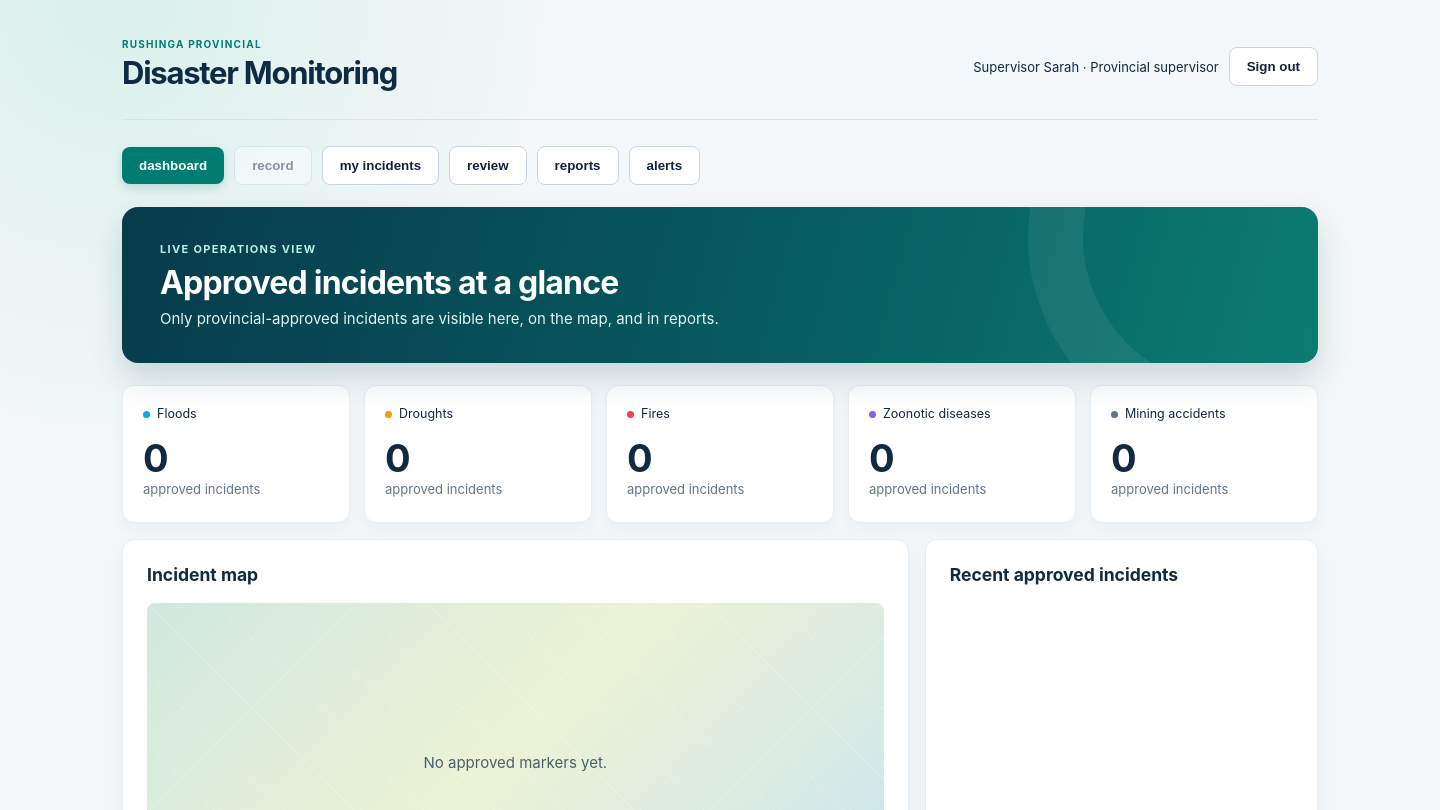
Test case: Supervisor Review, Decision and Dashboard Isolation Workflow › rejects an incident with mandatory reason and transitions incident to REJECTED
Click the button "review". click: (488, 166)
box: [449,146,527,185]
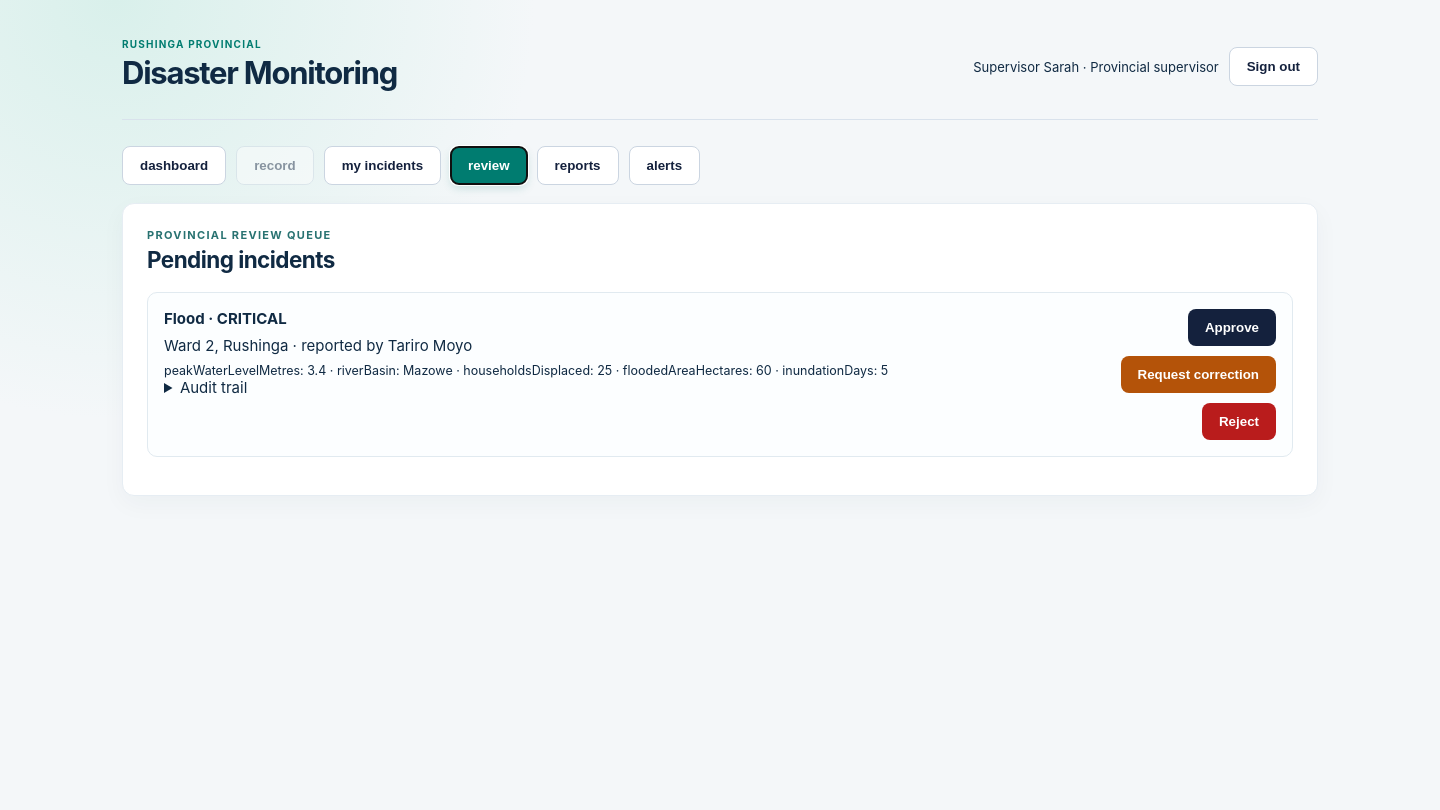
Click Reject
Click the button "Reject". click: (1239, 421)
box: [1202,403,1276,440]
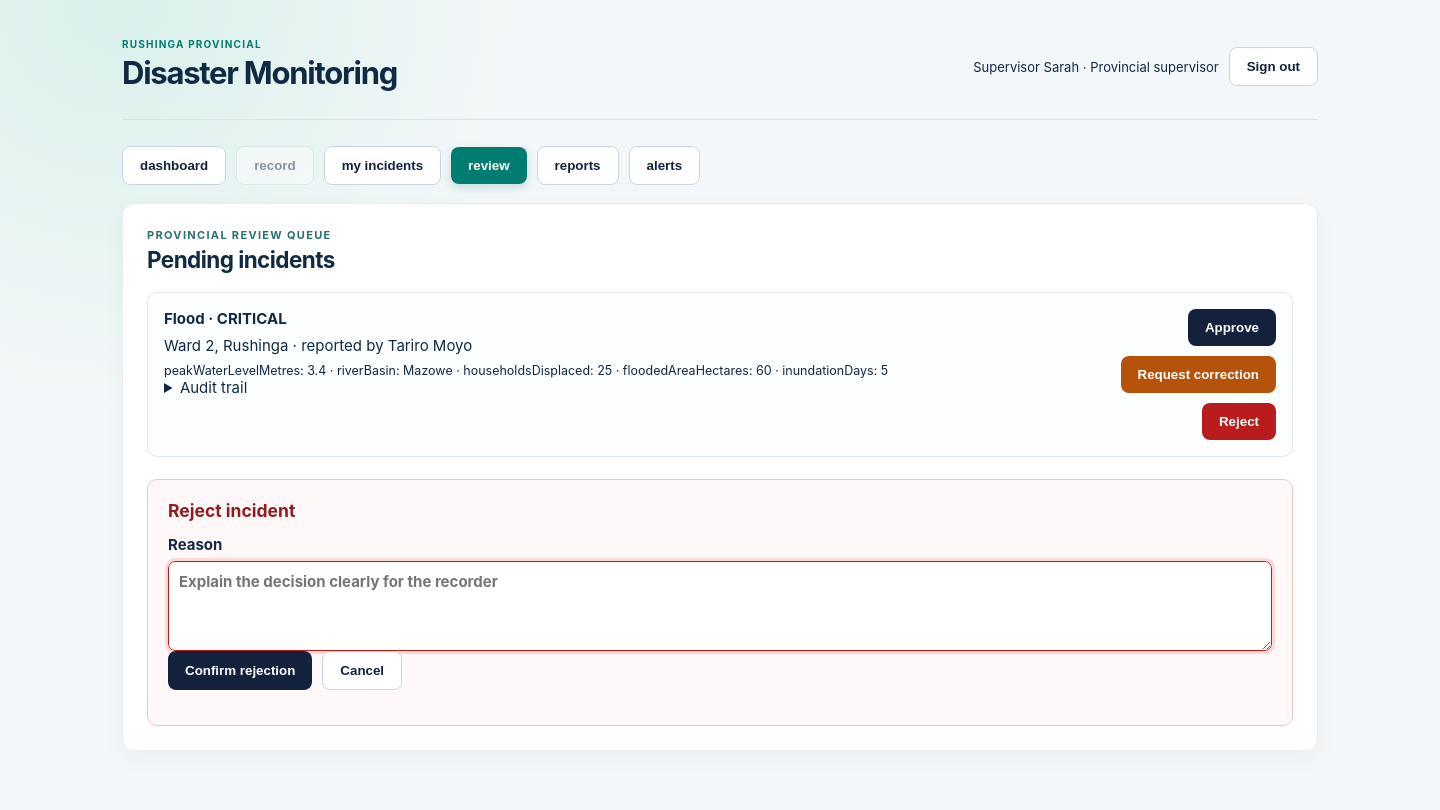
Expected: the heading "Reject incident" is shown, [168,500,295,521]
Type "Duplicate entry of Ward 2 morning alert." into the text box with placeholder "Explain the decision clearly for the recorder". click: (720, 606)
box: [168,561,1272,651]
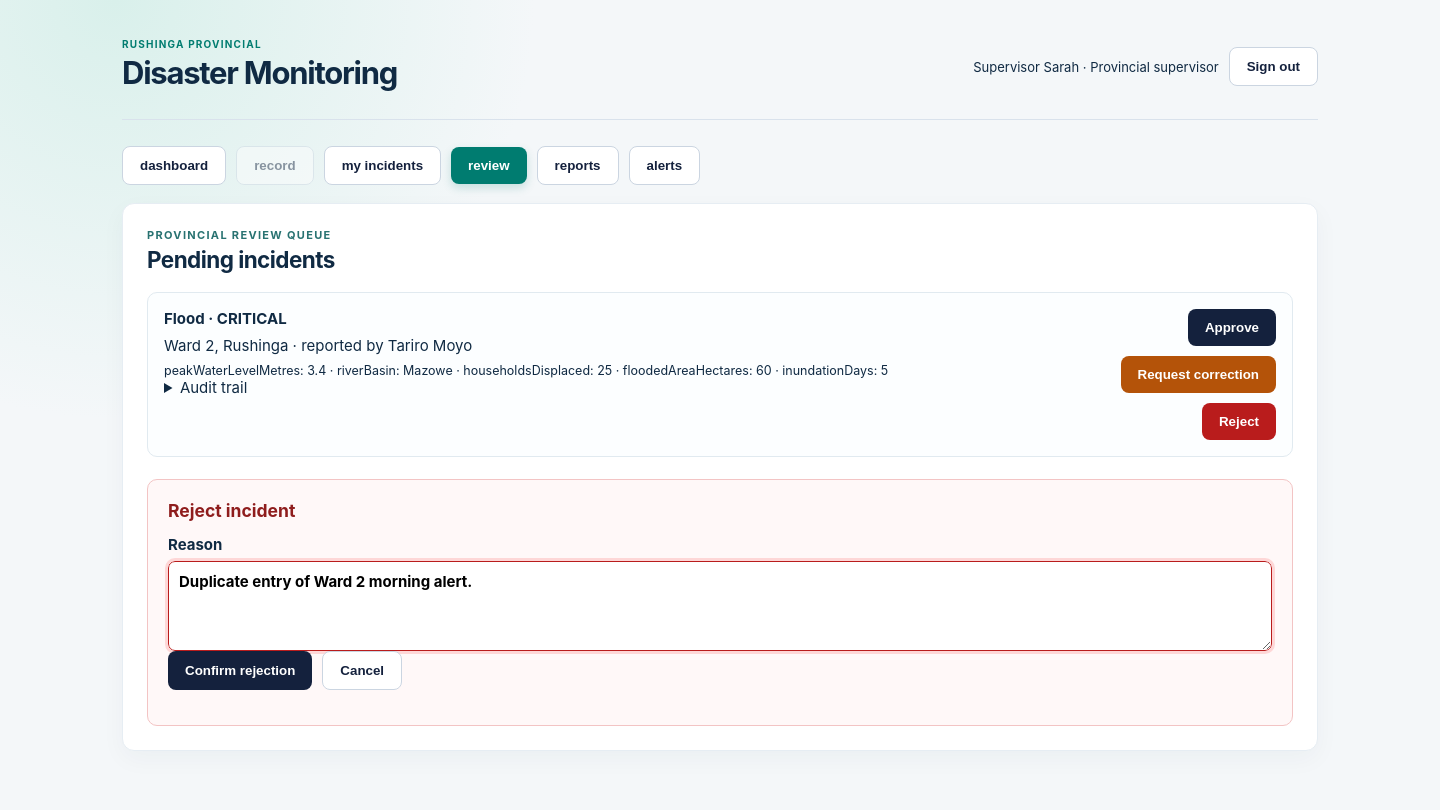
Click the button "Confirm rejection". click: (240, 670)
box: [168,651,312,690]
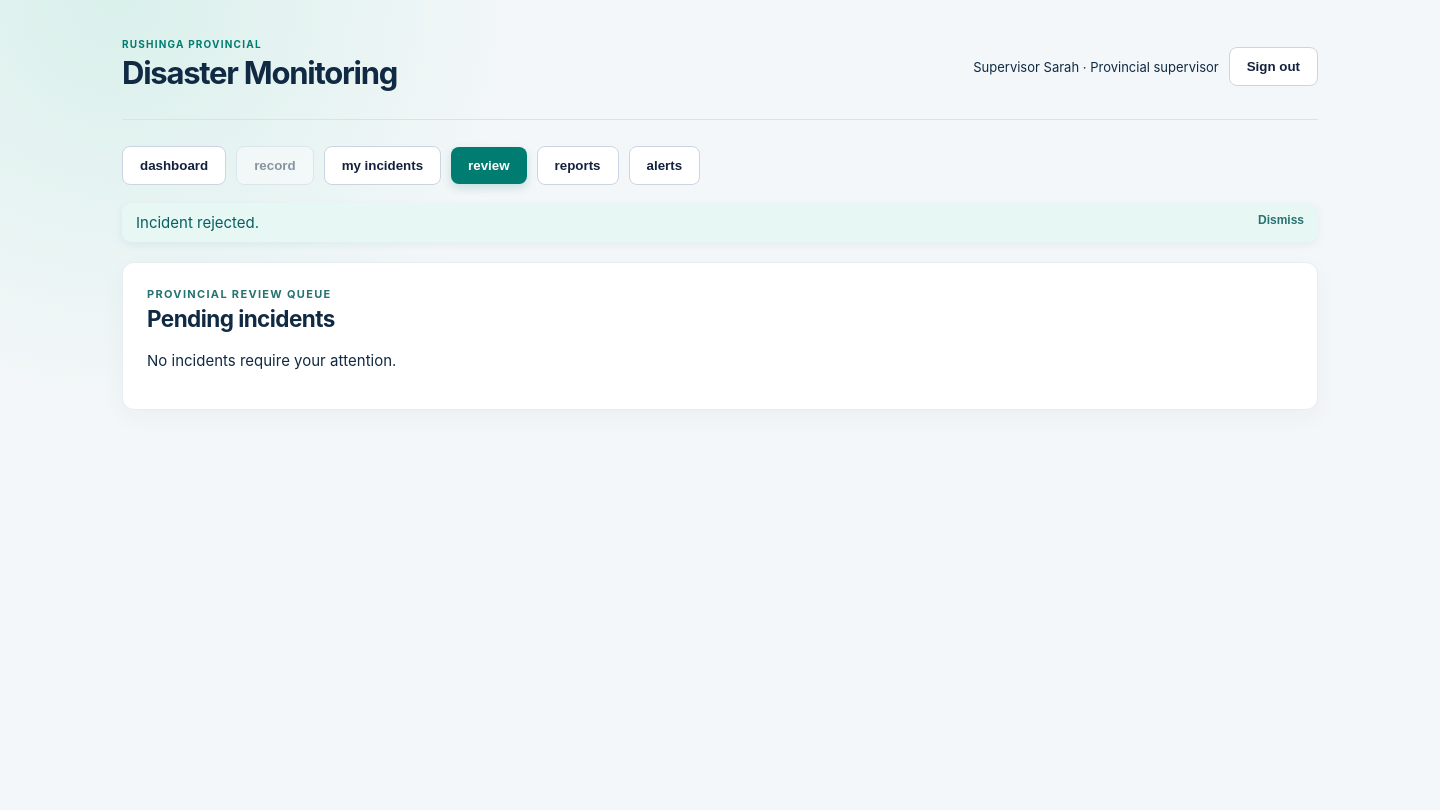
Expected: the text "Incident rejected. Dismiss" is shown, [122,203,1318,242]
Expected: the text "No incidents require your attention." is shown, [147,351,396,370]
